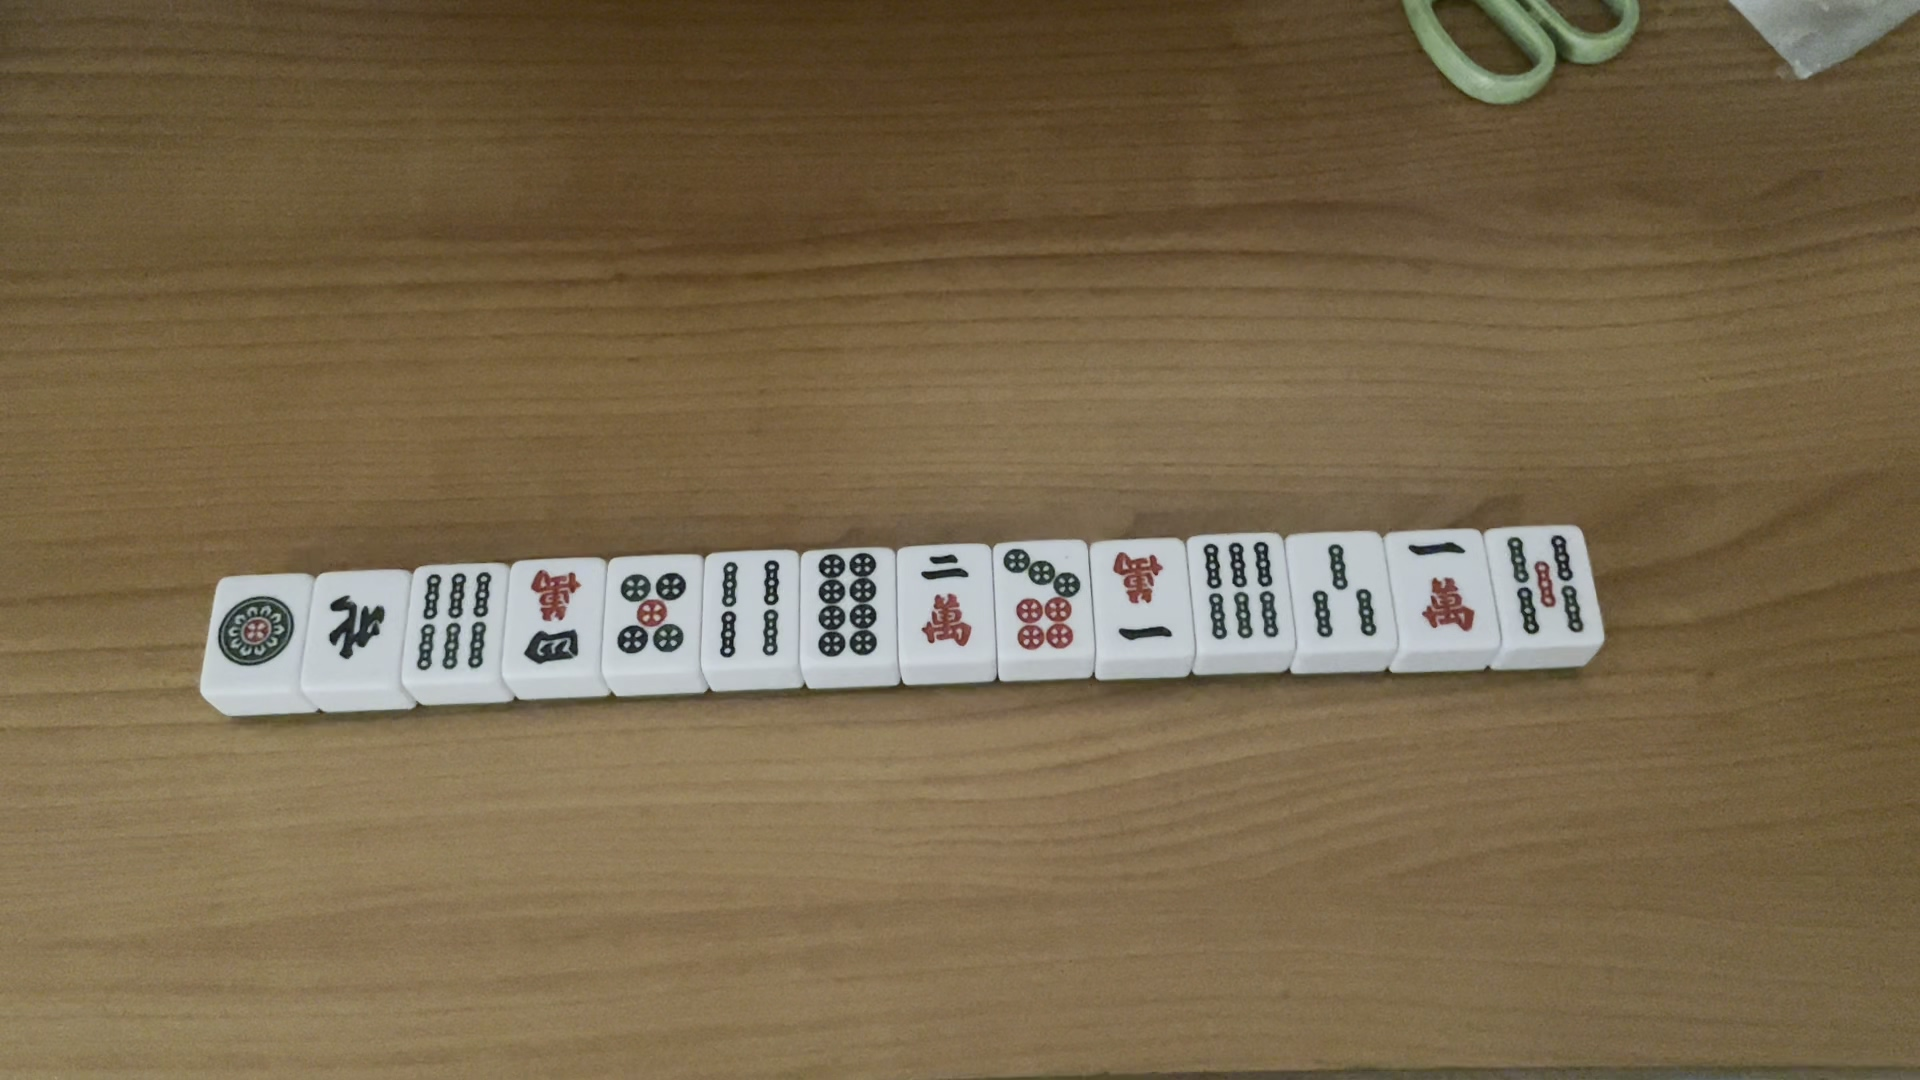b-3: (1302, 538, 1383, 654)
b-4: (712, 562, 785, 662)
b-6: (1193, 533, 1290, 644), (418, 567, 495, 673)
c-1: (1402, 533, 1484, 636), (1097, 554, 1176, 646)
c-2: (903, 546, 980, 659)
c-4: (524, 564, 587, 666)
c-5: (1499, 524, 1596, 641)
d-1: (210, 585, 297, 680)
d-5: (612, 567, 694, 657)
d-7: (993, 541, 1087, 650)
d-8: (807, 550, 884, 673)
honors-north: (316, 588, 389, 667)
